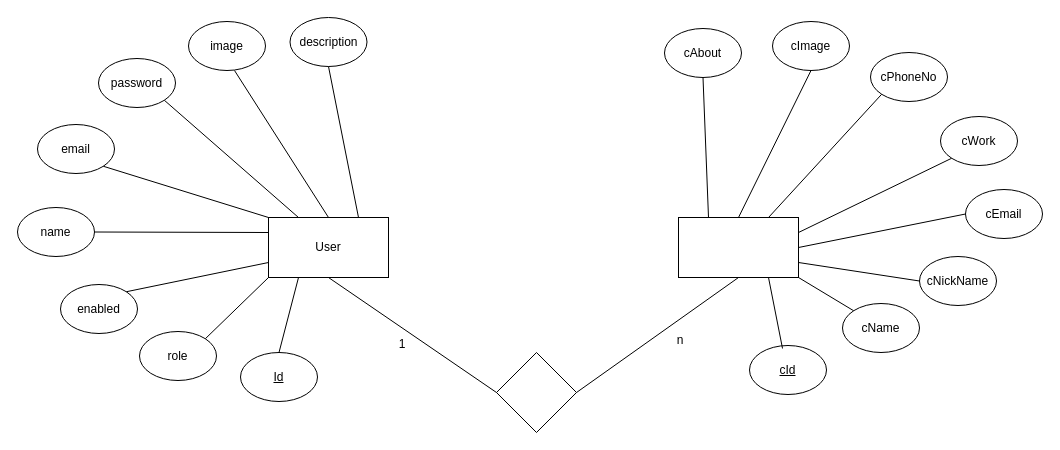
This 1060x450 diagram has some shape labels left out. The centre of each missing label's shape, as x and y in pixels:
"Contact" belongs at pixel 738 247.
"has" belongs at pixel 536 392.
